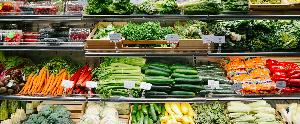bell_pepper: (268, 58, 300, 94)
carrot: (24, 58, 74, 98), (225, 57, 276, 95)
corn: (226, 98, 282, 124)
cucumber: (140, 58, 200, 98), (198, 58, 234, 94)
zucchini: (129, 103, 162, 124)
